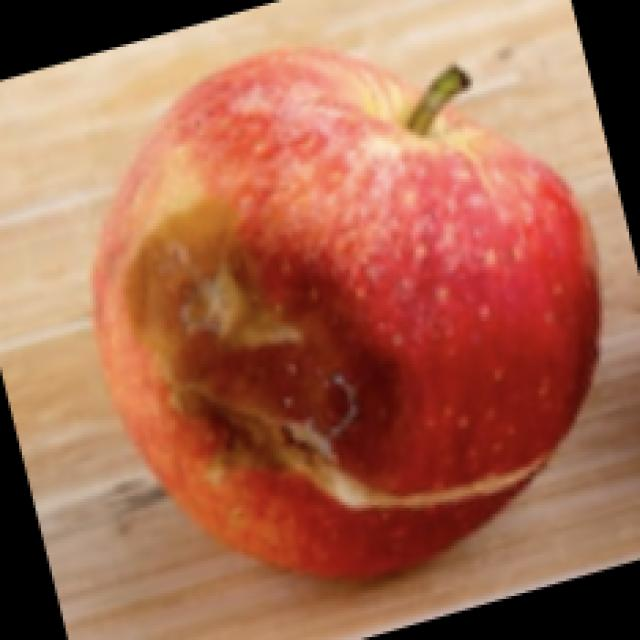organik: (157, 95, 555, 568)
